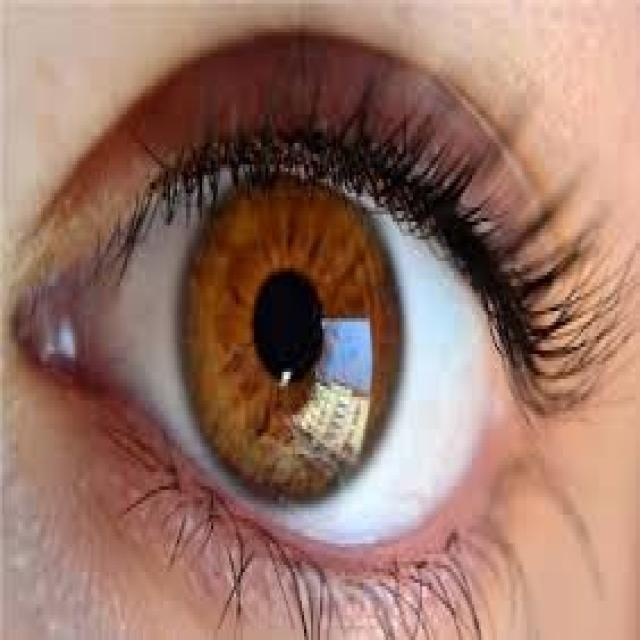Normal: (7, 21, 636, 636)
